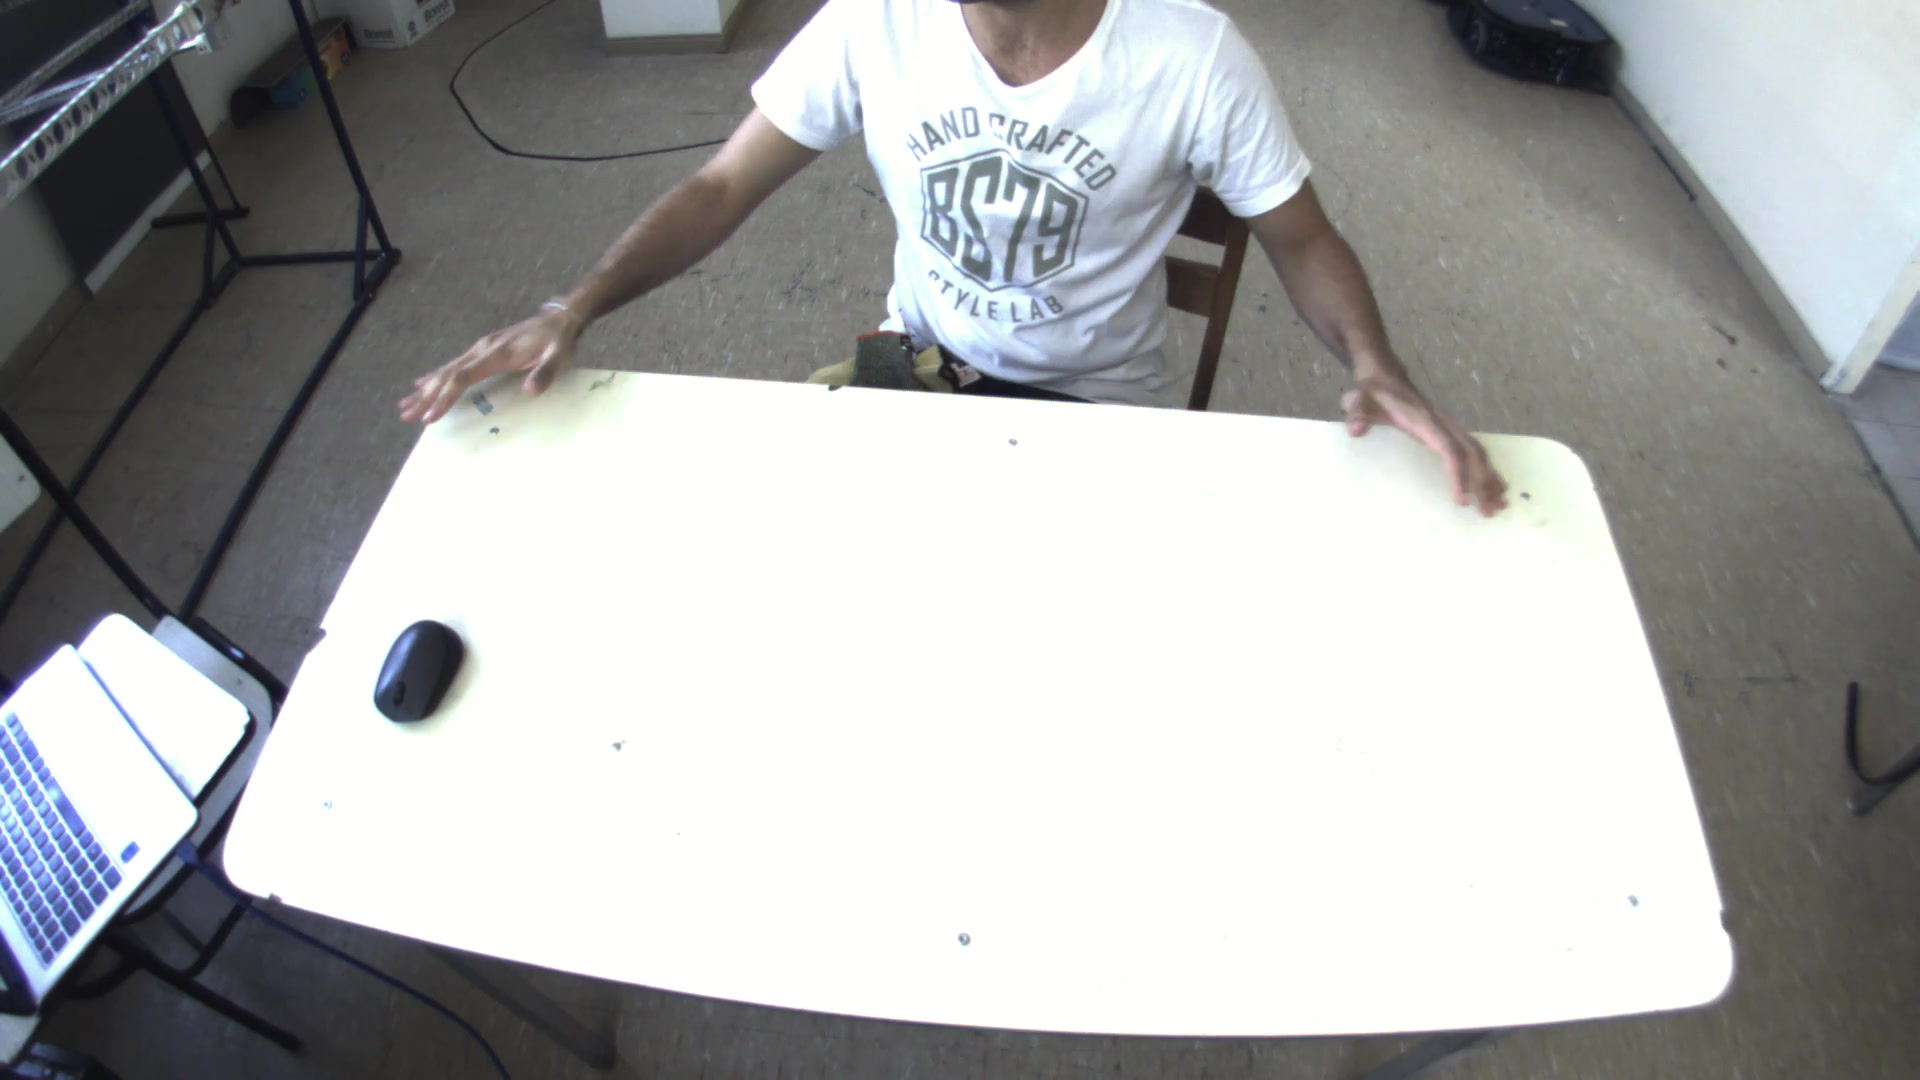hand: (1333, 360, 1536, 520), (377, 295, 585, 430)
